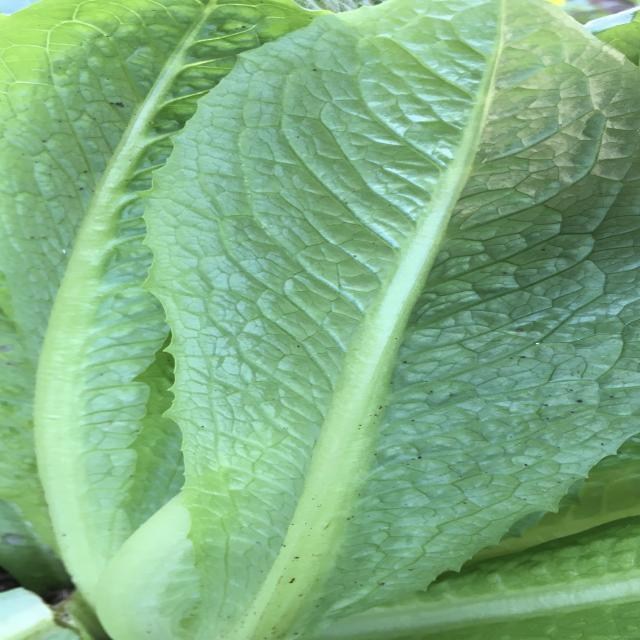Healthy Lettuce: (14, 2, 636, 635)
